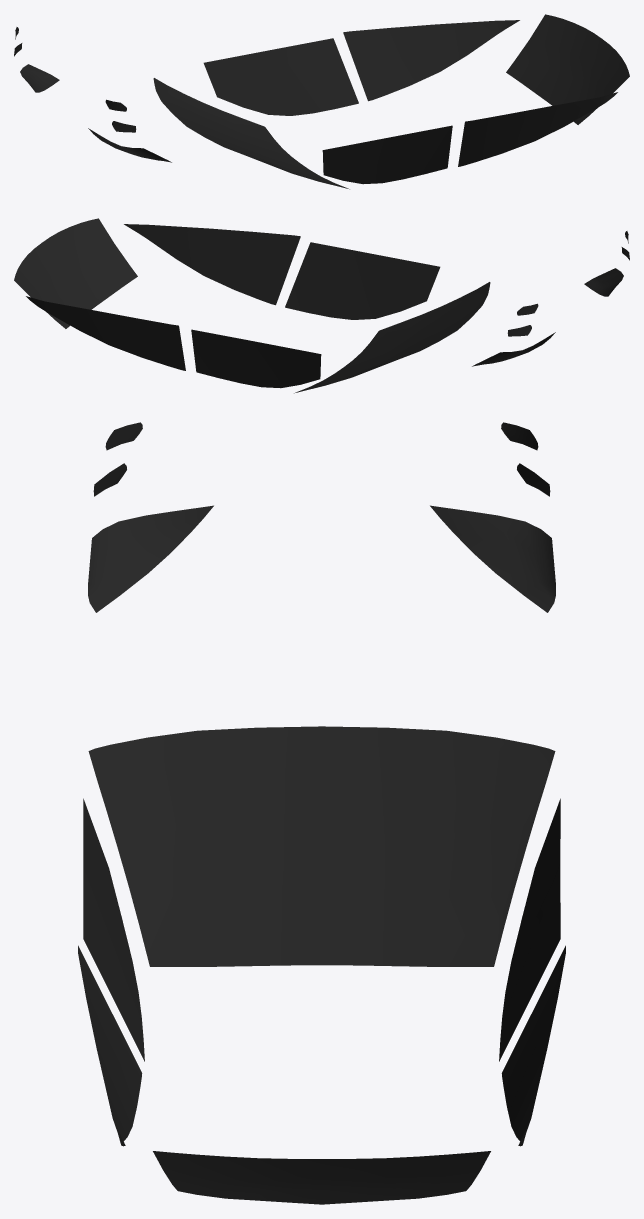
File: FN_glass_d3.obj
The picture shows the model from 3 angles, top to bottom: view 1: azimuth 30°, elevation 25°; view 2: azimuth 150°, elevation 25°; view 3: azimuth 270°, elevation 25°; orthographic projection. The views are drawn at different scales.
Parts seen in each view (by area): view 1: FN_glass_FN_glass_DefaultMaterial; view 2: FN_glass_FN_glass_DefaultMaterial; view 3: FN_glass_FN_glass_DefaultMaterial.
Boxes of the visible parts, left/top/right/bottom form: FN_glass_FN_glass_DefaultMaterial: left=14, top=14, right=629, bottom=189; FN_glass_FN_glass_DefaultMaterial: left=14, top=218, right=629, bottom=393; FN_glass_FN_glass_DefaultMaterial: left=78, top=422, right=565, bottom=1204.
Bounding box in the file's own units: 3.89 × 1.06 × 1.52.
Materials: 1 (1 with a texture image).
